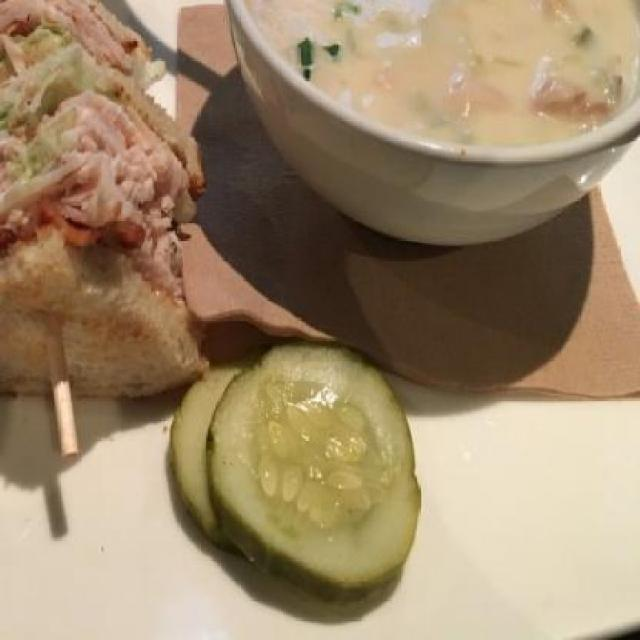clam chowder: (210, 1, 635, 268)
club sandwich: (3, 3, 195, 451)
